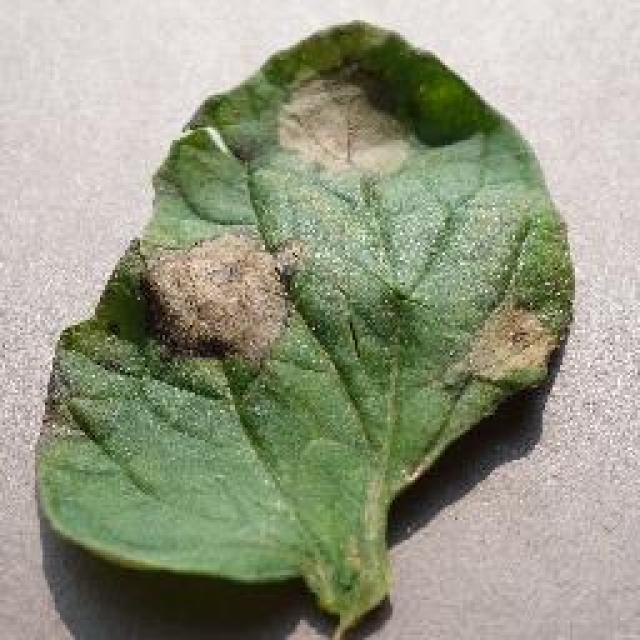Tomato_Late_Blight: (43, 222, 310, 435), (276, 18, 426, 186), (444, 276, 562, 396)
